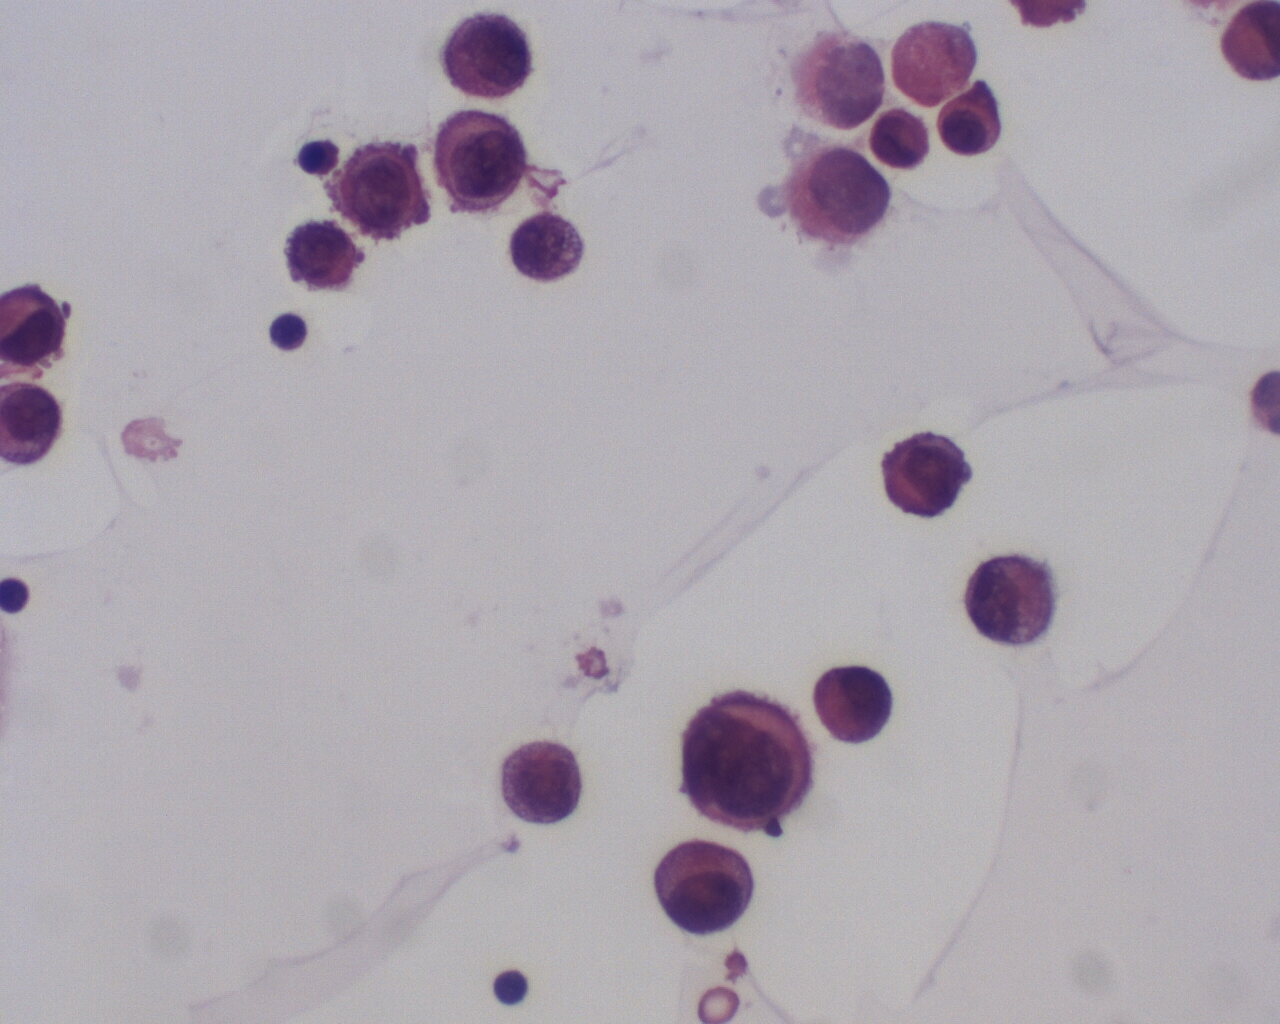ab: (680, 685, 817, 835), (877, 421, 985, 533), (331, 132, 433, 245), (648, 836, 758, 939), (429, 104, 529, 215), (958, 548, 1058, 648), (436, 7, 537, 102), (495, 737, 595, 831), (814, 662, 903, 749), (277, 217, 368, 299), (929, 77, 1007, 160), (505, 206, 587, 282), (866, 101, 932, 174)
lymph: (491, 963, 537, 1013), (266, 308, 313, 353)
